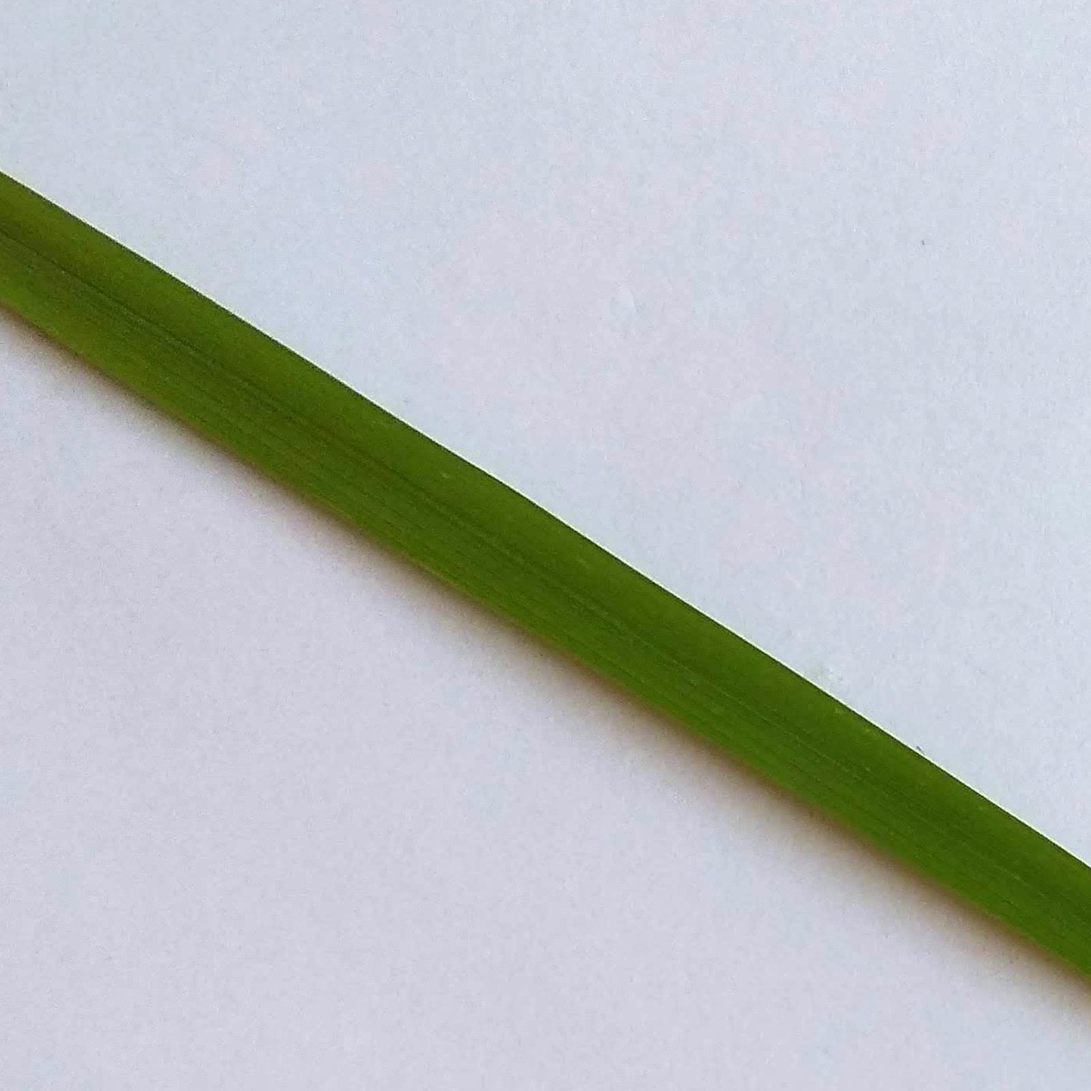Healthy: (1, 175, 1090, 975)
